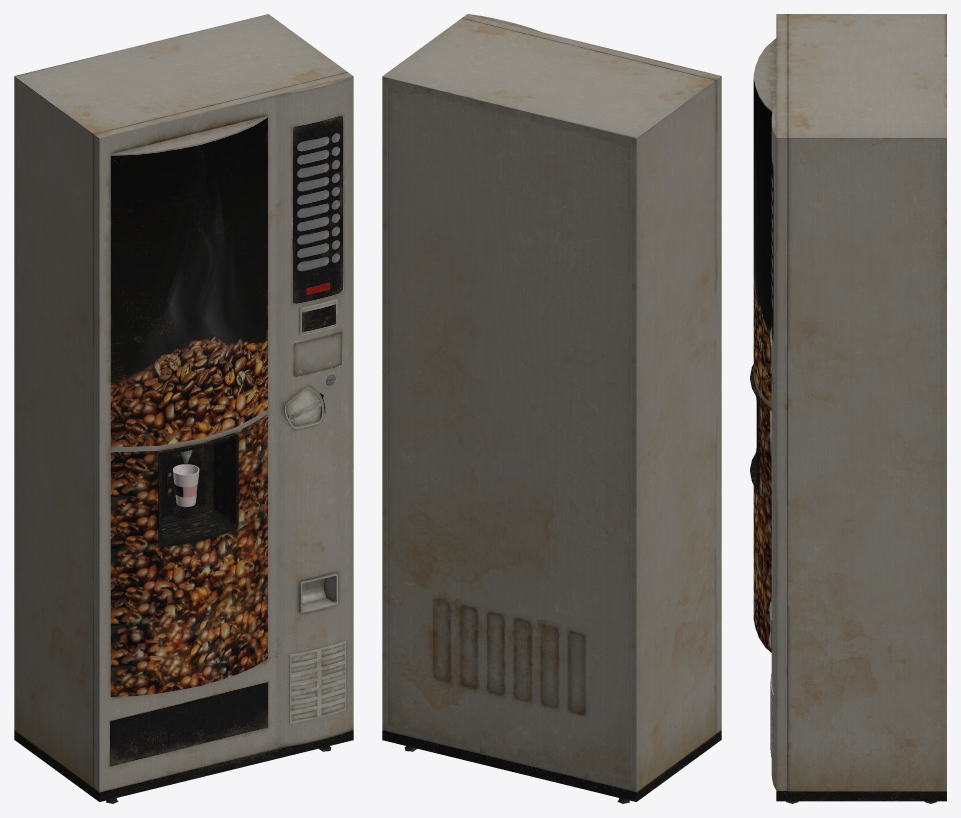
Rendered from sm24_023_vendingmachine03a.fbx.
3 views of the same model, side by side, from view 1: azimuth 30°, elevation 25°; view 2: azimuth 150°, elevation 25°; view 3: azimuth 270°, elevation 25° (orthographic).
Parts seen in each view (by area): view 1: LOD_1_Group_0_Sub_1__sm24_023_VendingMachine03A_A_Mat; view 2: LOD_1_Group_0_Sub_1__sm24_023_VendingMachine03A_A_Mat; view 3: LOD_1_Group_0_Sub_1__sm24_023_VendingMachine03A_A_Mat.
Boxes of the visible parts, bbox=[...] form: LOD_1_Group_0_Sub_1__sm24_023_VendingMachine03A_A_Mat: bbox=[14, 14, 353, 803]; LOD_1_Group_0_Sub_1__sm24_023_VendingMachine03A_A_Mat: bbox=[382, 14, 721, 803]; LOD_1_Group_0_Sub_1__sm24_023_VendingMachine03A_A_Mat: bbox=[750, 14, 946, 803].
Bounding box in the file's own units: 0.8106 × 2.05 × 0.5438.
